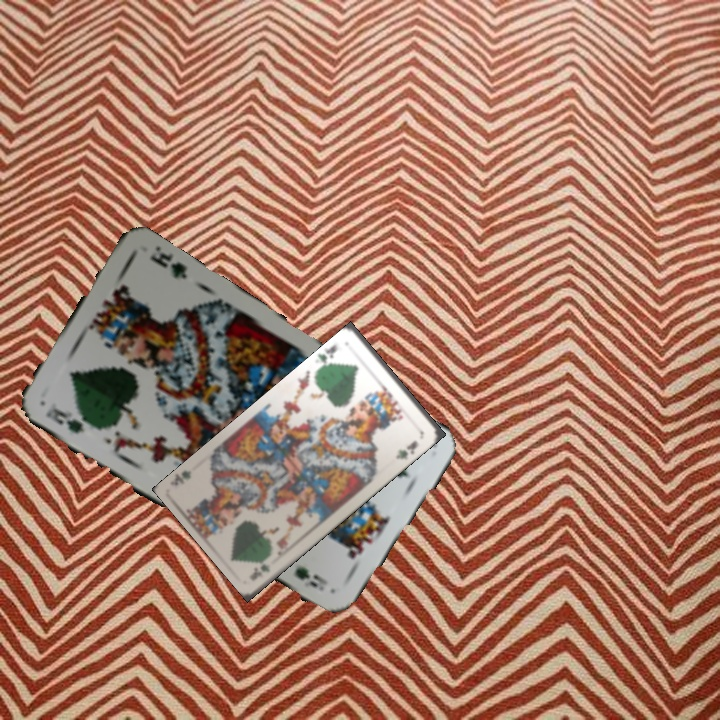GK: (41, 403, 97, 436), (315, 340, 340, 371), (252, 560, 273, 580)
